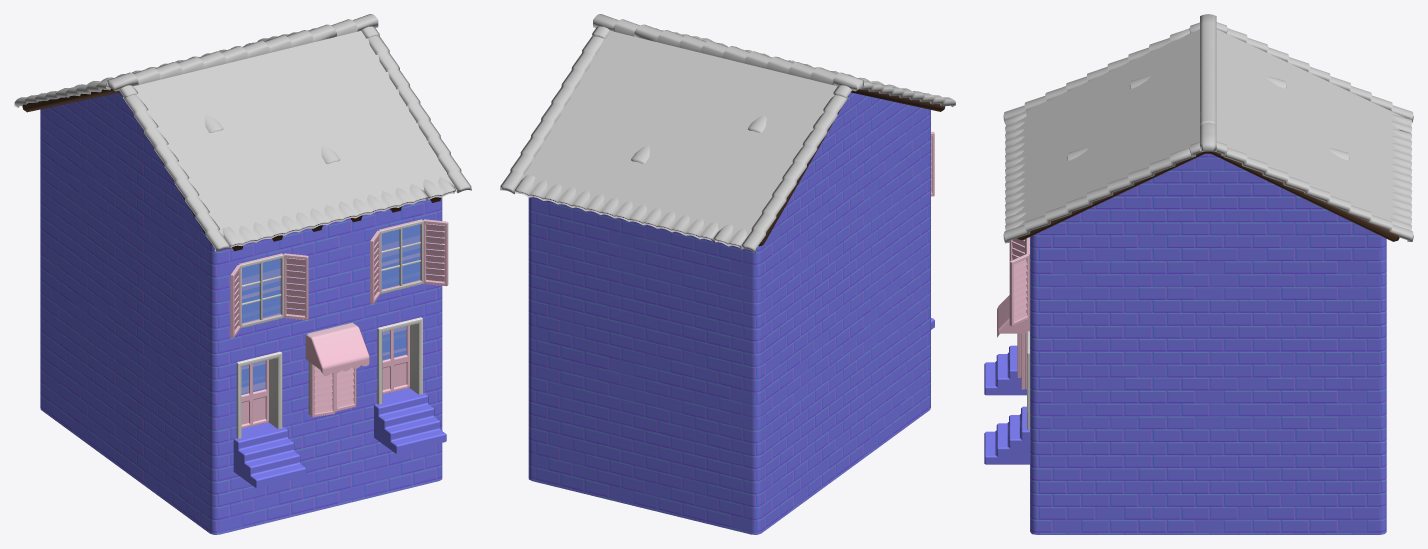
The model's file is Building1_LightPink.fbx.
The picture shows the model from 3 angles, left to right: view 1: azimuth 30°, elevation 25°; view 2: azimuth 150°, elevation 25°; view 3: azimuth 270°, elevation 25°; orthographic projection.
Parts seen in each view (by area): view 1: Building1_Pink; view 2: Building1_Pink; view 3: Building1_Pink.
Boxes of the visible parts, left/top/right/bottom form: Building1_Pink: left=14, top=14, right=471, bottom=534; Building1_Pink: left=500, top=14, right=955, bottom=534; Building1_Pink: left=984, top=14, right=1413, bottom=534.
Bounding box in the file's own units: 868 × 1242 × 1203.
